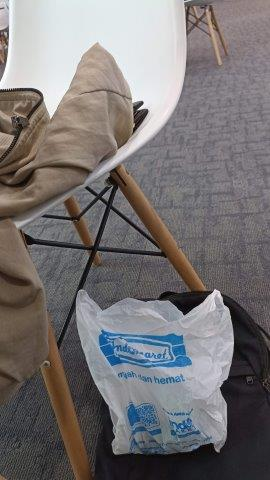plastik: (76, 290, 234, 453)
